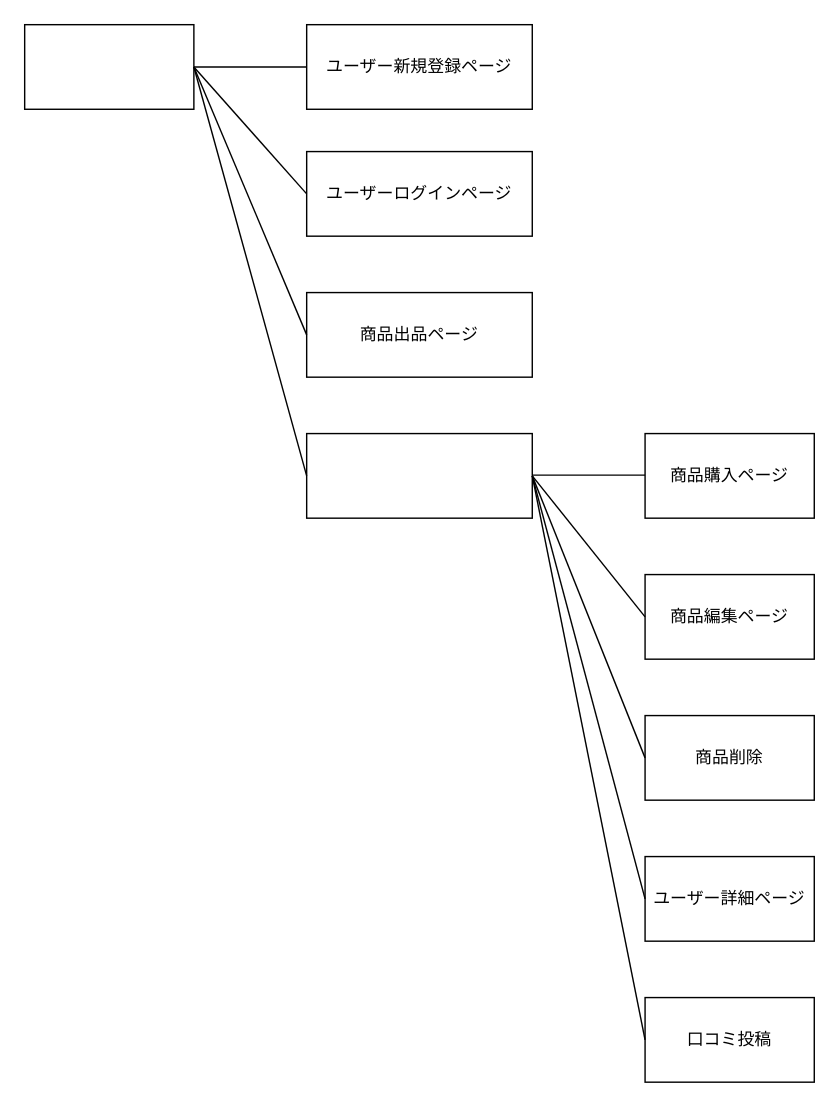
Some shapes in this 839 by 1107 pixel diagram are drawn without their labels. The box of each missing label's shape, as (x1, y1, x2, y2) in pixels:
トップページ: (23, 23, 194, 109)
商品詳細ページ: (305, 432, 532, 518)
